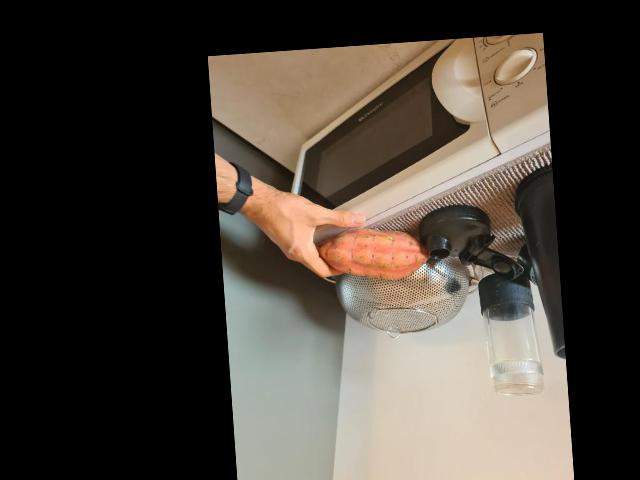sweet_potato: (316, 225, 430, 286)
